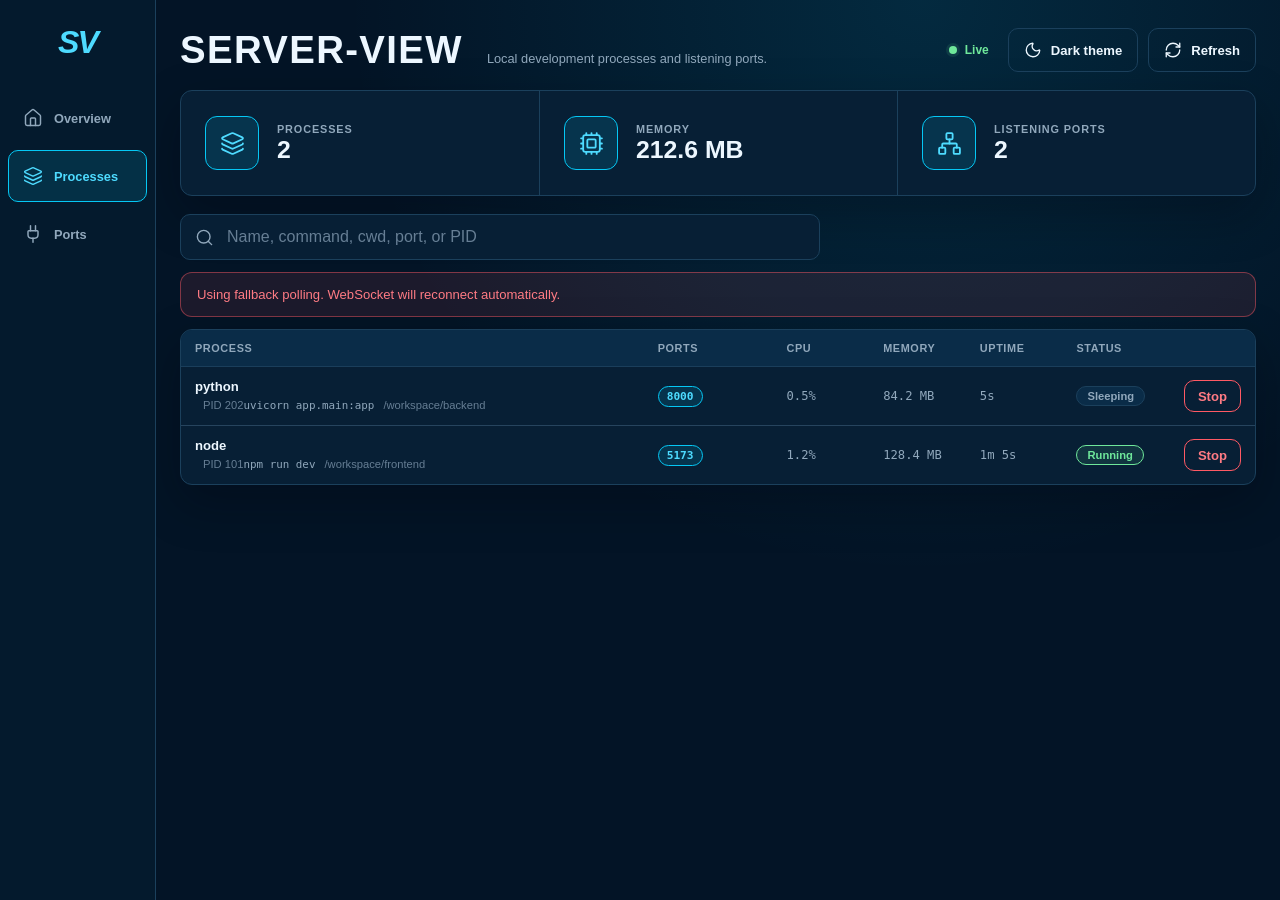
App › marks the process row selected while its stop dialog is open
The image size is (1280, 900).
Click the button "Stop" in the row of "node": (1212, 455) [1184,439,1241,471]
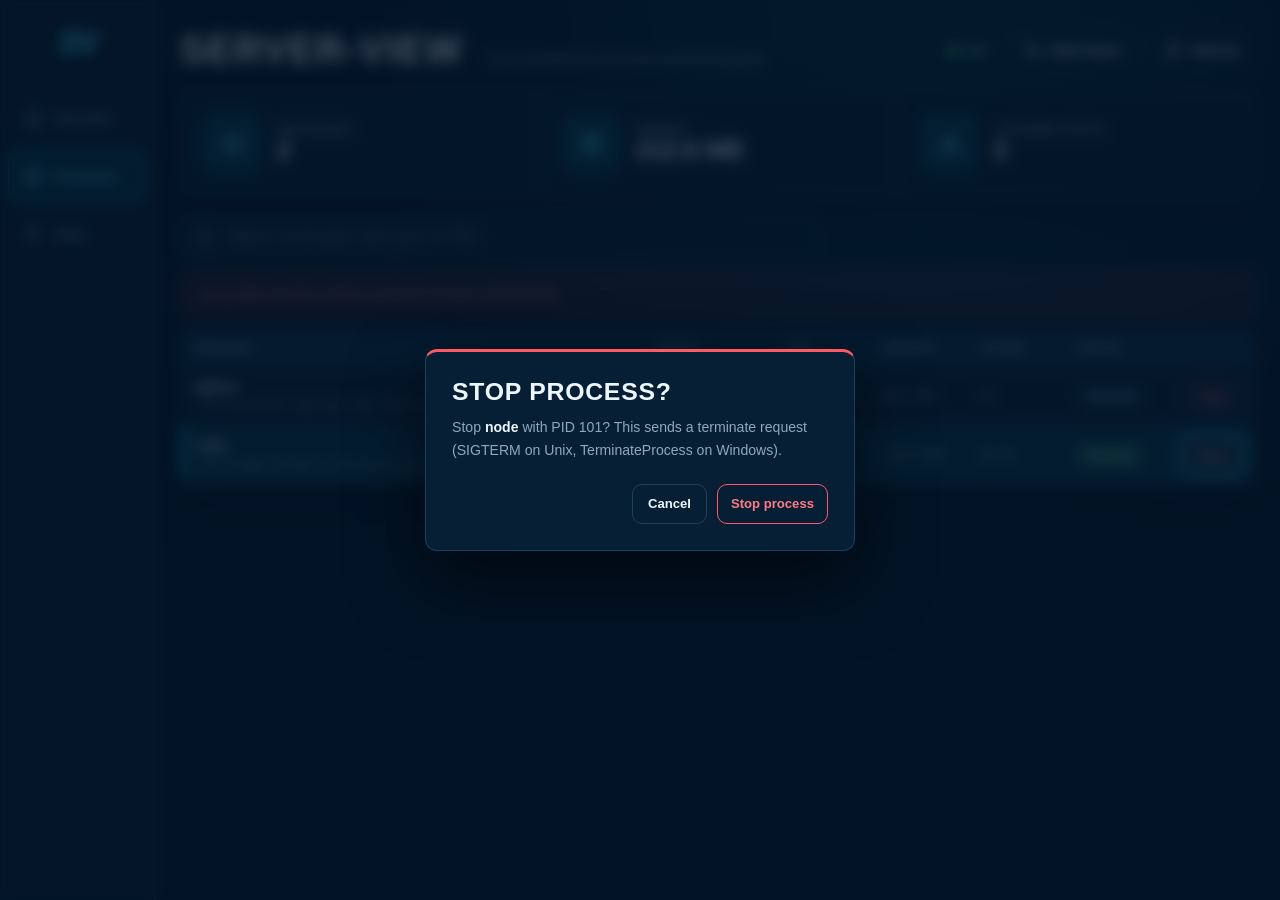
Expected: the dialog "Stop process?" is shown, [425,350,855,550]
Click the button "Cancel": (669, 504) [632,484,707,524]
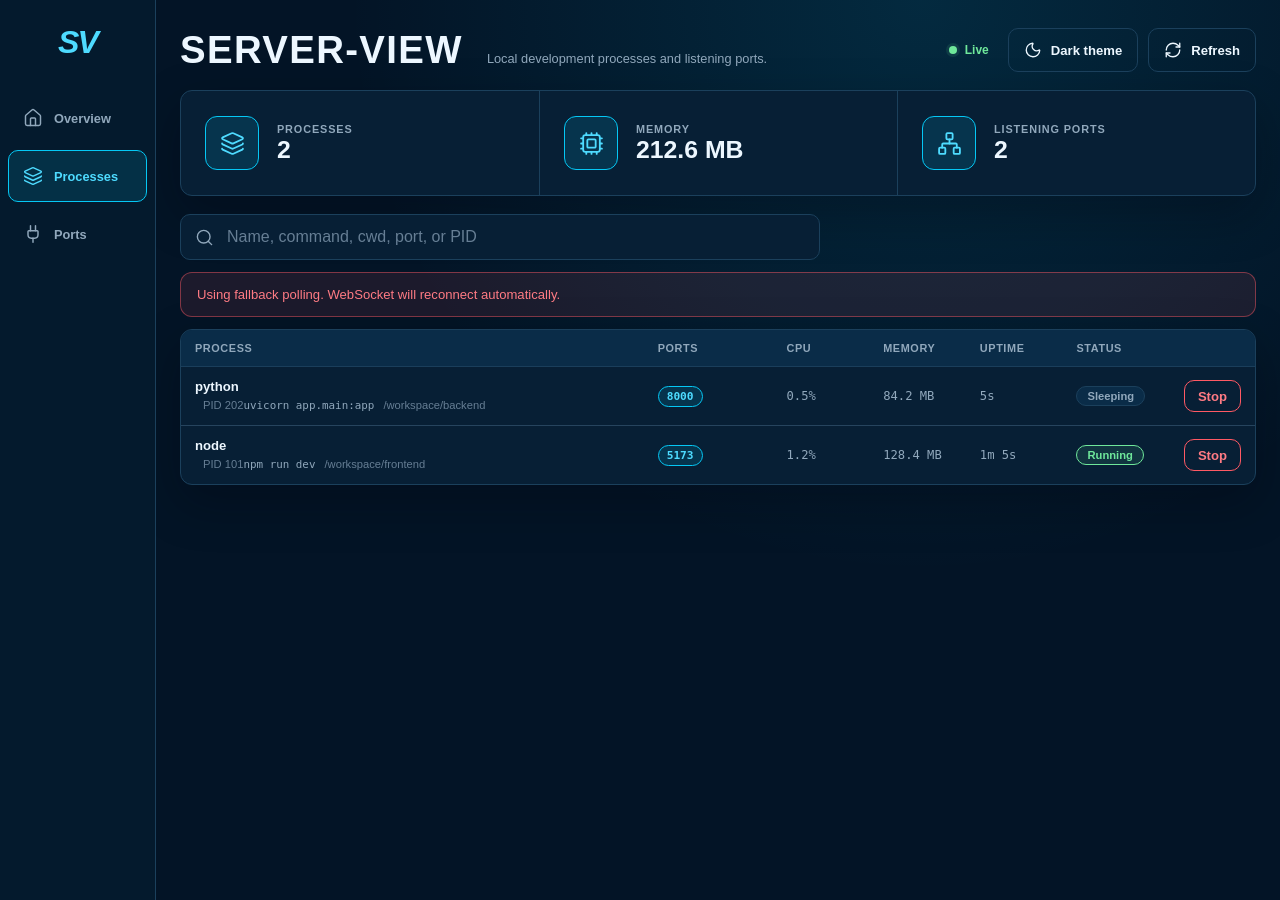
Expected: the heading "Stop process?" is gone
